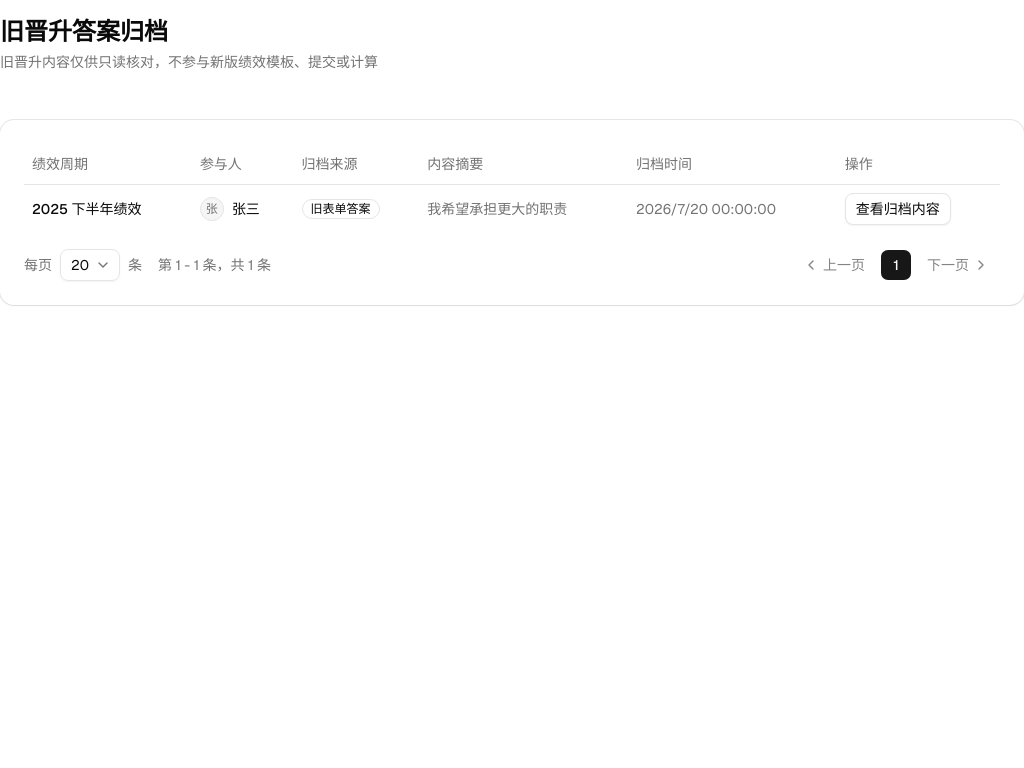
it: 旧晋升答案归档 › 用 DataTable 展示安全投影，并在详情中结构化呈现旧答案
Expected: the text "2025 下半年绩效" is shown, [32,200,142,218]
Expected: the text "张三" is shown, [232,198,260,218]
Click the button "查看归档内容" at [898, 208], box [845,192,951,224]
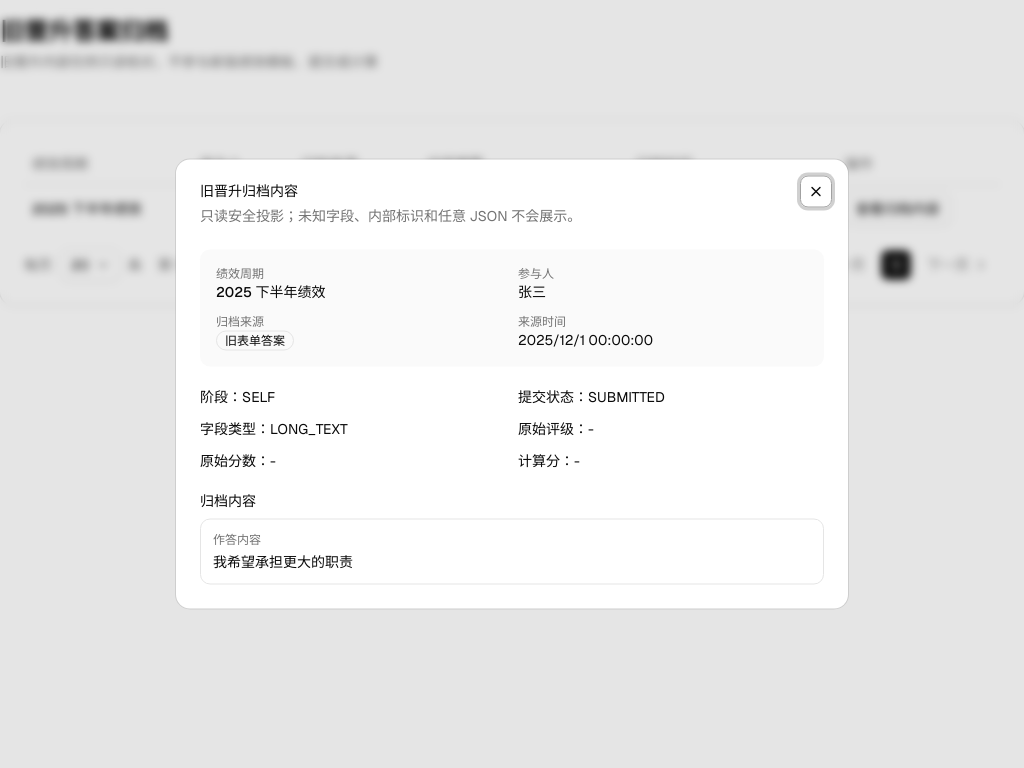
Now the text "我希望承担更大的职责" is shown, box [213,552,353,570]
